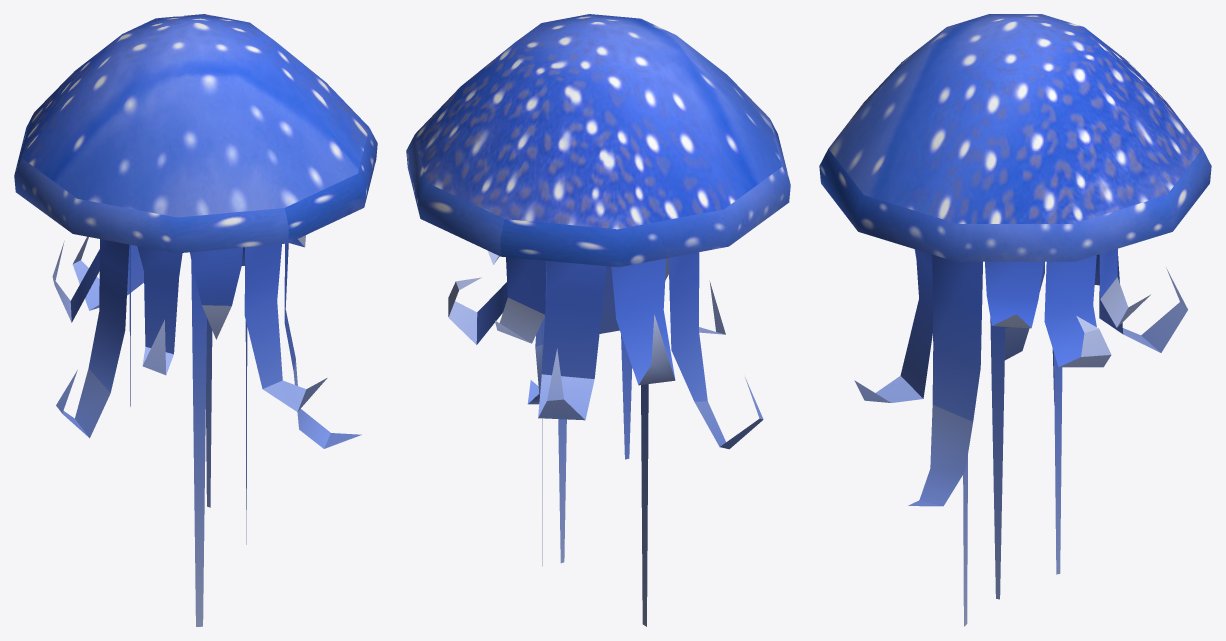
Rendered from Jelly Electric.fbx.
The picture shows the model from 3 angles, left to right: view 1: azimuth 30°, elevation 25°; view 2: azimuth 150°, elevation 25°; view 3: azimuth 270°, elevation 25°; orthographic projection. The views are drawn at different scales.
Parts seen in each view (by area): view 1: Cylinder.005, Cylinder.006; view 2: Cylinder.005, Cylinder.006; view 3: Cylinder.005, Cylinder.006.
Part boxes in pixels (x1,y1,x2,y2): Cylinder.005: (14,14,377,253); Cylinder.006: (52,235,361,626); Cylinder.005: (406,14,790,267); Cylinder.006: (448,251,763,626); Cylinder.005: (819,14,1211,261); Cylinder.006: (854,248,1187,626).
Bounding box in the file's own units: 224 × 407 × 236.
